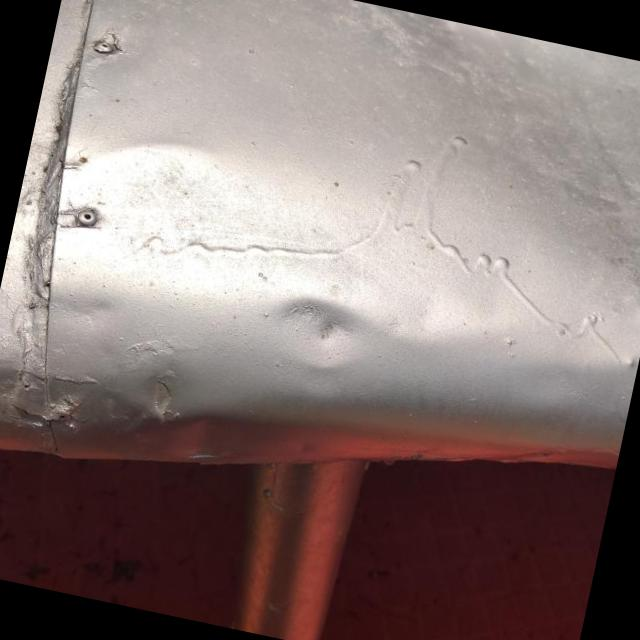Dent: (49, 335, 238, 462), (257, 259, 374, 400)
